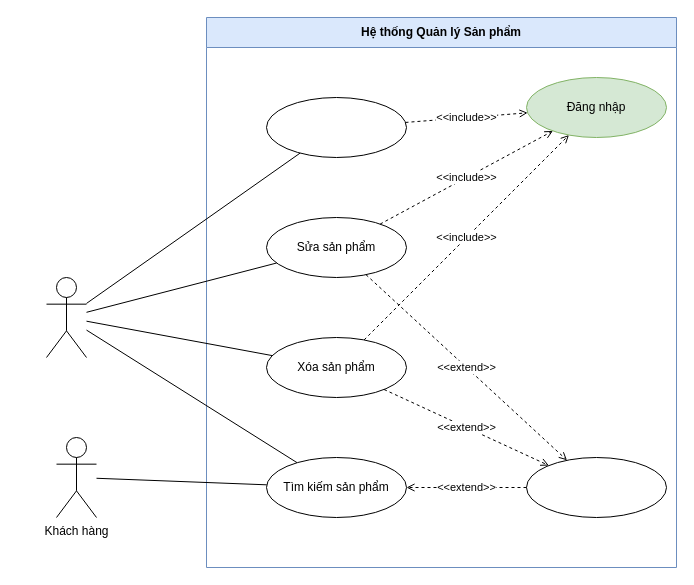
Some shapes in this 694 by 585 pixel diagram are drawn without their labels. The shapes that lost their labels are listed below. From the top down, each one's box as (x1, y1, x2, y2) in pixels, then its label:
(266, 96, 406, 158): Thêm sản phẩm
(46, 276, 86, 358): Admin / Nhân viên
(526, 456, 666, 518): Xem chi tiết sản phẩm
